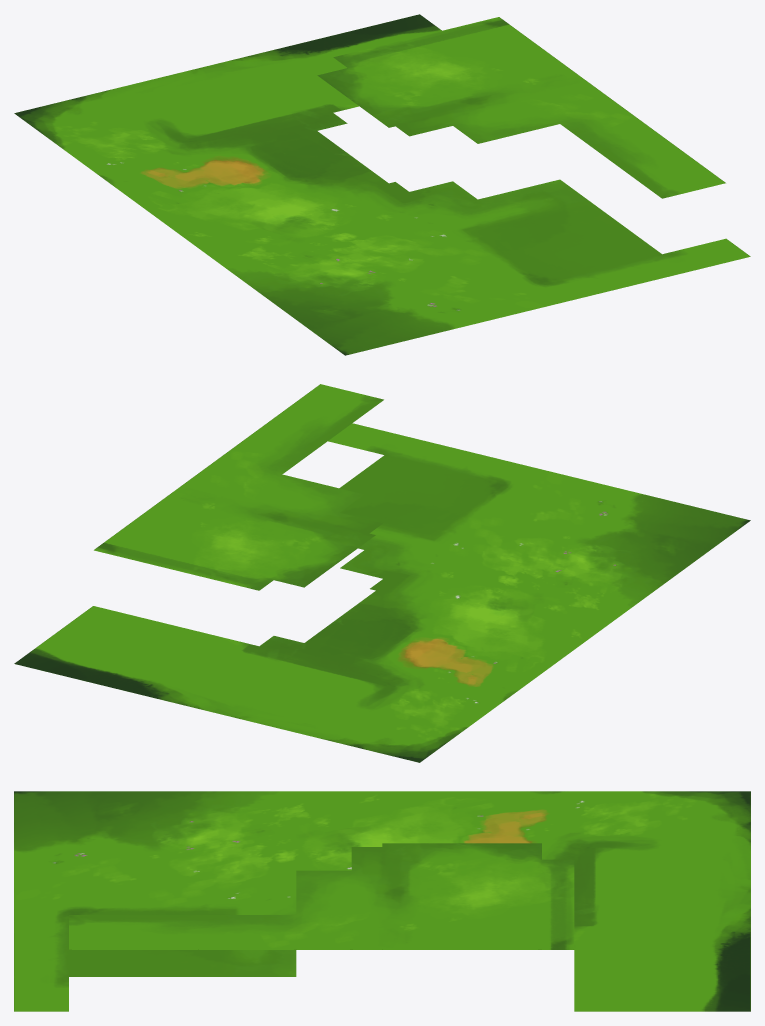
File: Terrain3-1Outside.FBX
The picture shows the model from 3 angles, top to bottom: view 1: azimuth 30°, elevation 25°; view 2: azimuth 150°, elevation 25°; view 3: azimuth 270°, elevation 25°; orthographic projection. The views are drawn at different scales.
Parts seen in each view (by area): view 1: Object, Object053; view 2: Object, Object053; view 3: Object, Object053.
Part boxes in pixels (x1,y1,x2,y2): Object: (14, 14, 750, 355); Object053: (317, 17, 725, 198); Object: (14, 423, 750, 762); Object053: (94, 384, 383, 590); Object: (14, 791, 750, 1011); Object053: (69, 843, 574, 949).
Bounding box in the file's own units: 438 × 57.21 × 619.
Materials: 1 (1 with a texture image).
